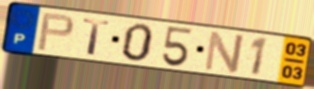0: (120, 22, 156, 64)
1: (246, 36, 270, 77)
5: (161, 25, 195, 68)
N: (202, 29, 247, 75)
P: (35, 12, 77, 53)
T: (81, 17, 112, 57)
